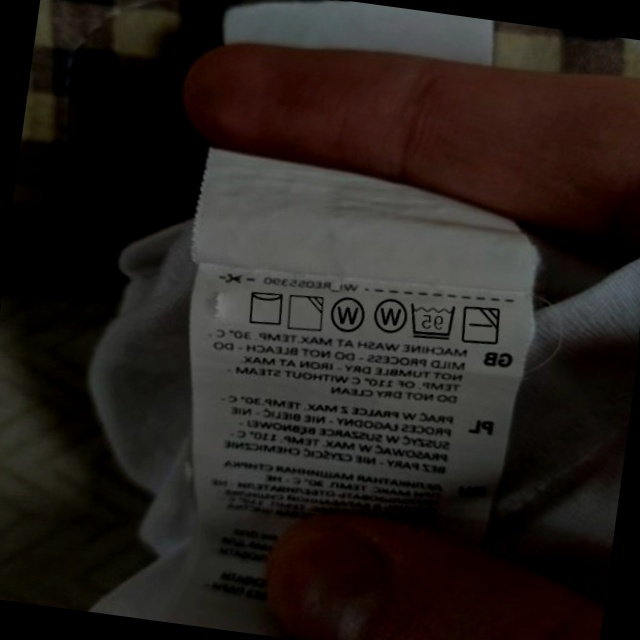95C: (404, 297, 460, 344)
dry_flat_in_shade: (458, 300, 505, 350)
line_dry: (242, 284, 288, 330)
shade_dry: (283, 289, 328, 336)
wet_clean: (326, 292, 369, 338), (368, 291, 410, 338)
